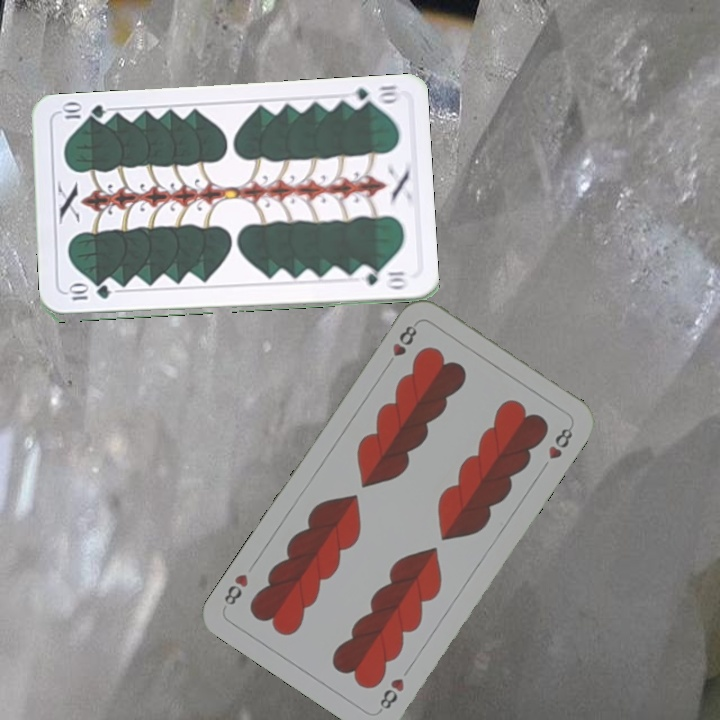G10: (343, 81, 400, 111), (64, 284, 113, 303)
H8: (382, 321, 420, 371), (375, 674, 407, 715)
